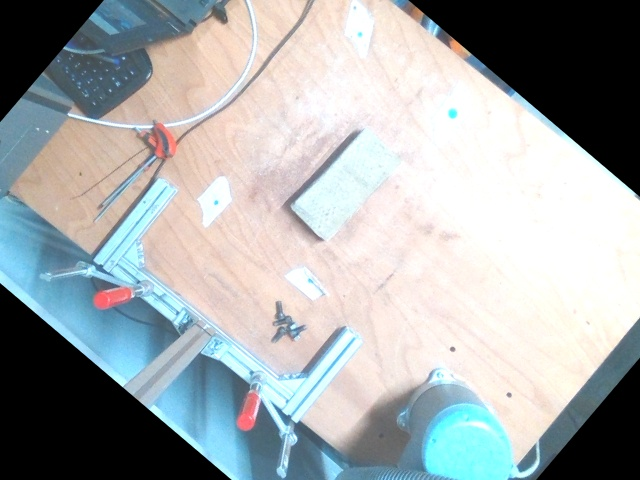brick: (289, 126, 404, 242)
